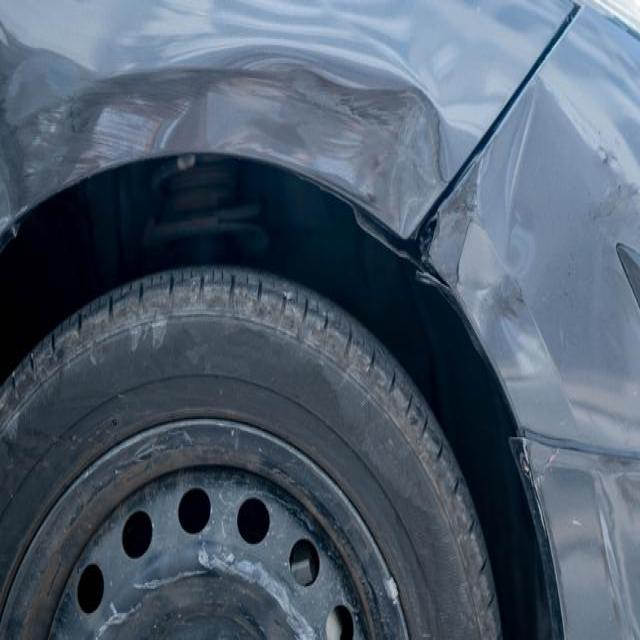Dent: (440, 209, 560, 422), (83, 293, 180, 362), (0, 402, 74, 487), (592, 484, 629, 632), (504, 92, 536, 251), (130, 553, 211, 592), (154, 96, 202, 155), (588, 168, 636, 222), (194, 540, 246, 582), (128, 428, 183, 461), (96, 594, 143, 632), (490, 275, 527, 323), (518, 442, 559, 481), (274, 287, 302, 335), (356, 572, 380, 618), (44, 559, 64, 598), (109, 282, 130, 316), (440, 462, 456, 496), (383, 571, 399, 602), (50, 329, 64, 362), (404, 401, 420, 428), (68, 108, 84, 132), (560, 6, 576, 30), (342, 323, 352, 356), (463, 509, 474, 535), (365, 347, 376, 373), (433, 434, 444, 460), (299, 294, 308, 323), (482, 586, 494, 607), (386, 366, 395, 394), (477, 553, 488, 572), (8, 220, 17, 240), (596, 146, 608, 160), (570, 515, 582, 529), (9, 371, 16, 394), (28, 349, 35, 371), (167, 272, 174, 293), (321, 309, 328, 329), (108, 600, 116, 614), (280, 290, 289, 300), (70, 431, 78, 442), (228, 425, 235, 436), (110, 416, 118, 425)
